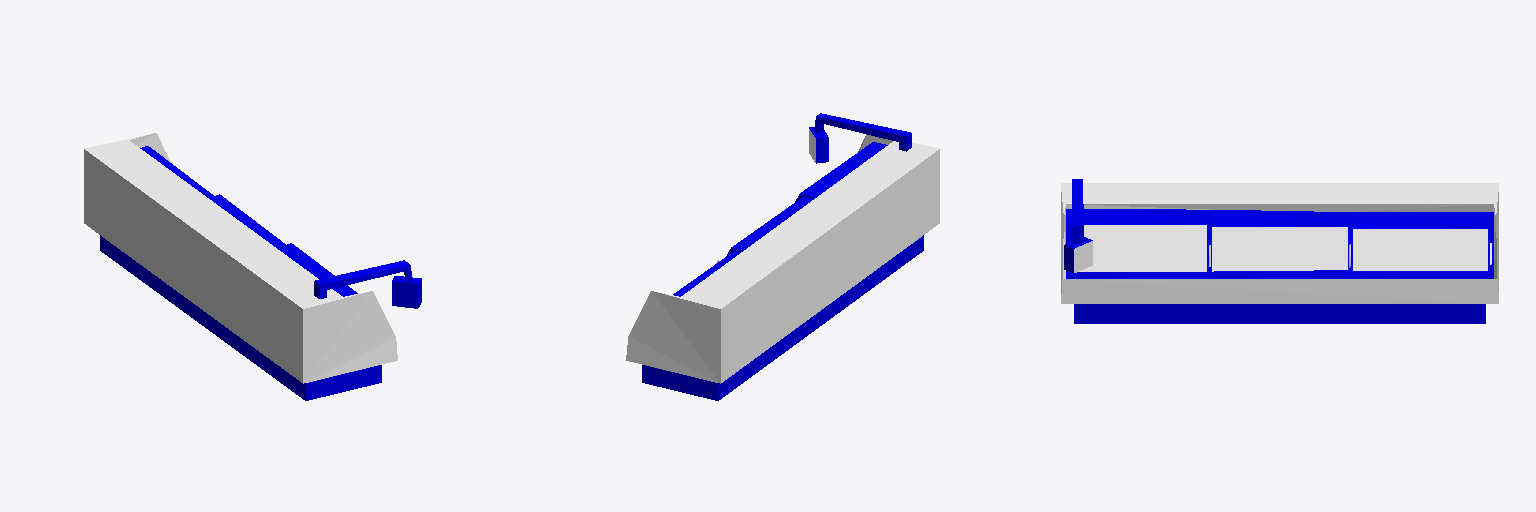
File: Perceuse.obj
The picture shows the model from 3 angles: view 1: azimuth 30°, elevation 25°; view 2: azimuth 150°, elevation 25°; view 3: azimuth 270°, elevation 25°; orthographic projection.
Visible parts, largest first — view 1: Solide1:3; view 2: Solide1:3; view 3: Solide1:3.
Part boxes in pixels (left/top/right/bottom): Solide1:3: left=84, top=133, right=421, bottom=400; Solide1:3: left=626, top=113, right=939, bottom=400; Solide1:3: left=1061, top=179, right=1498, bottom=323.
Size of the model in its own units: 2632 by 2300 by 8000.